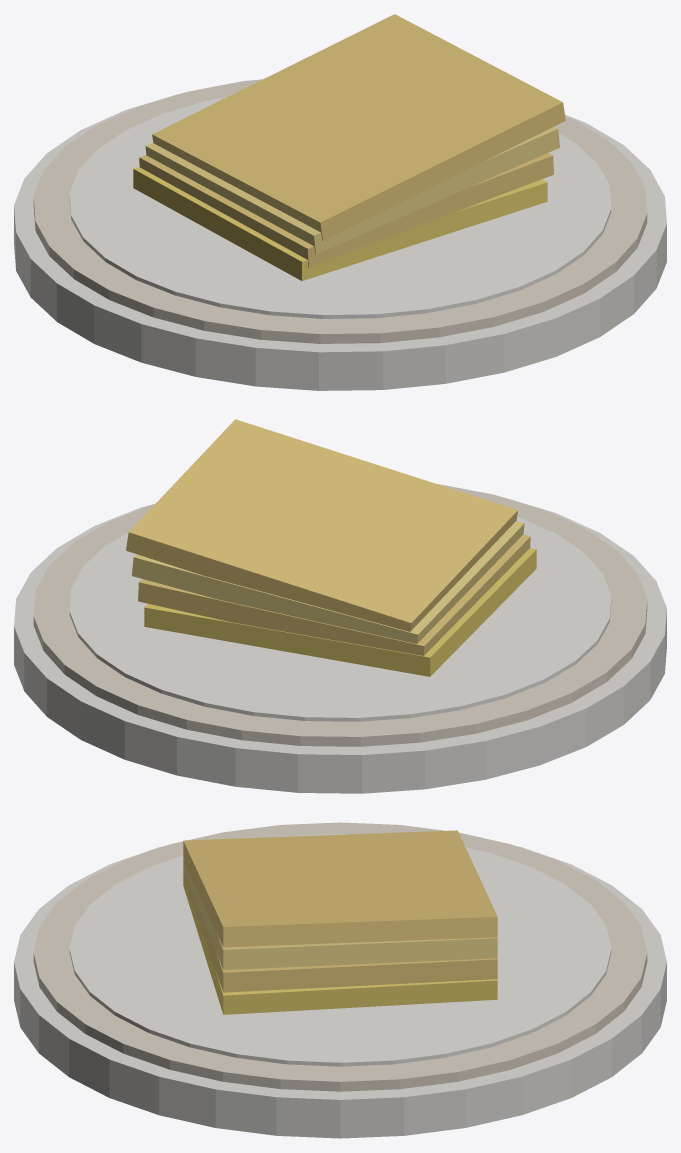
The model's file is phomai_lati.glb.
3 views of the same model, one above another, from view 1: azimuth 30°, elevation 25°; view 2: azimuth 150°, elevation 25°; view 3: azimuth 270°, elevation 25° (orthographic).
Parts seen in each view (by area): view 1: obj_0006, obj_0002, obj_0000, obj_0001, obj_0003, obj_0004, obj_0005; view 2: obj_0006, obj_0002, obj_0000, obj_0001, obj_0003, obj_0004, obj_0005; view 3: obj_0002, obj_0000, obj_0001, obj_0006, obj_0005, obj_0004, obj_0003.
Boxes of the visible parts, box(x1,y1,x2,y2) form: obj_0006: box(152, 14, 565, 240); obj_0002: box(69, 97, 611, 318); obj_0000: box(14, 94, 666, 390); obj_0001: box(33, 79, 647, 343); obj_0003: box(133, 167, 547, 280); obj_0004: box(139, 153, 553, 267); obj_0005: box(145, 127, 559, 254); obj_0006: box(126, 419, 517, 631); obj_0002: box(69, 516, 611, 721); obj_0000: box(14, 497, 666, 793); obj_0001: box(33, 484, 647, 746); obj_0003: box(144, 548, 536, 676); obj_0004: box(138, 534, 530, 655); obj_0005: box(131, 521, 524, 643); obj_0002: box(69, 833, 611, 1066); obj_0000: box(14, 846, 666, 1138); obj_0001: box(33, 822, 647, 1091); obj_0006: box(183, 830, 497, 947); obj_0005: box(183, 862, 497, 969); obj_0004: box(183, 870, 497, 992); obj_0003: box(183, 878, 497, 1014).
Size of the model in its own units: 1.84 by 0.4767 by 1.84.
